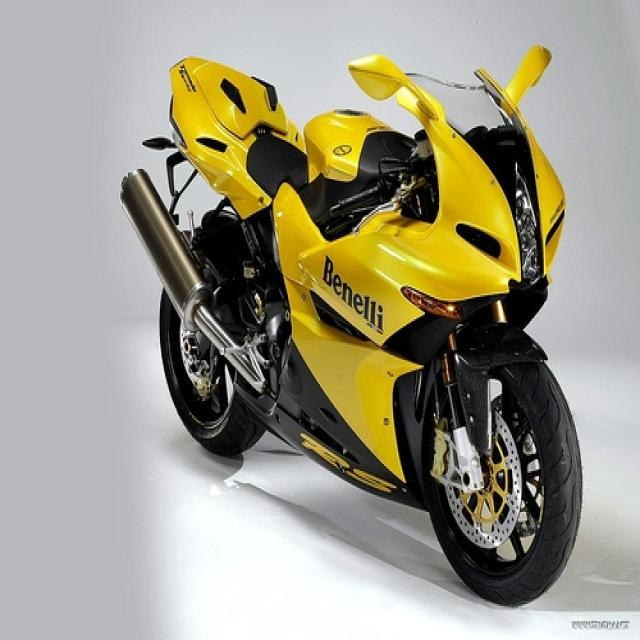motorbike: (117, 41, 584, 609)
